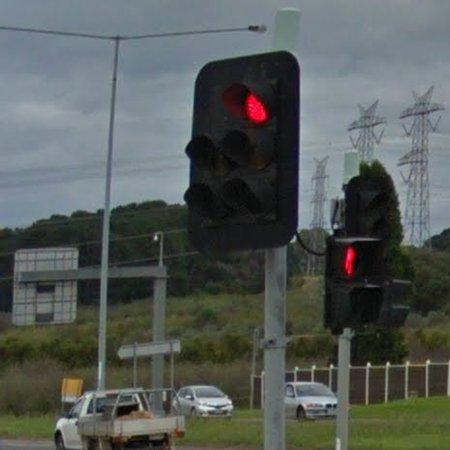traffic lights: (183, 50, 301, 256), (325, 231, 389, 339)
